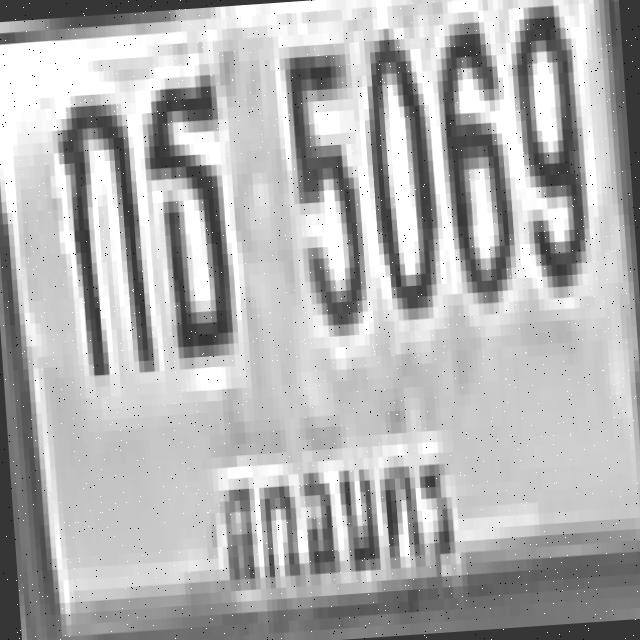0: (358, 26, 438, 310)
10GorGai: (51, 80, 152, 377)
33ThorThong: (138, 69, 234, 354)
5: (277, 31, 363, 327)
6: (432, 10, 512, 294)
9: (504, 0, 584, 277)
SakonNakhon: (206, 440, 472, 604)
